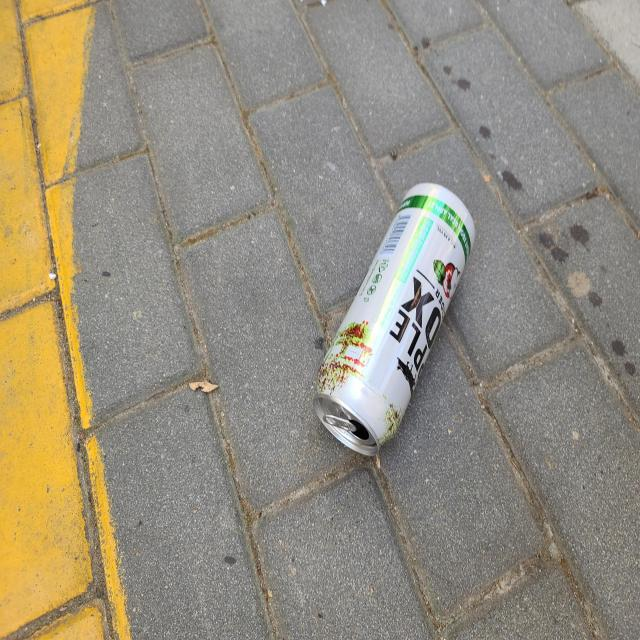can: (314, 183, 476, 456)
